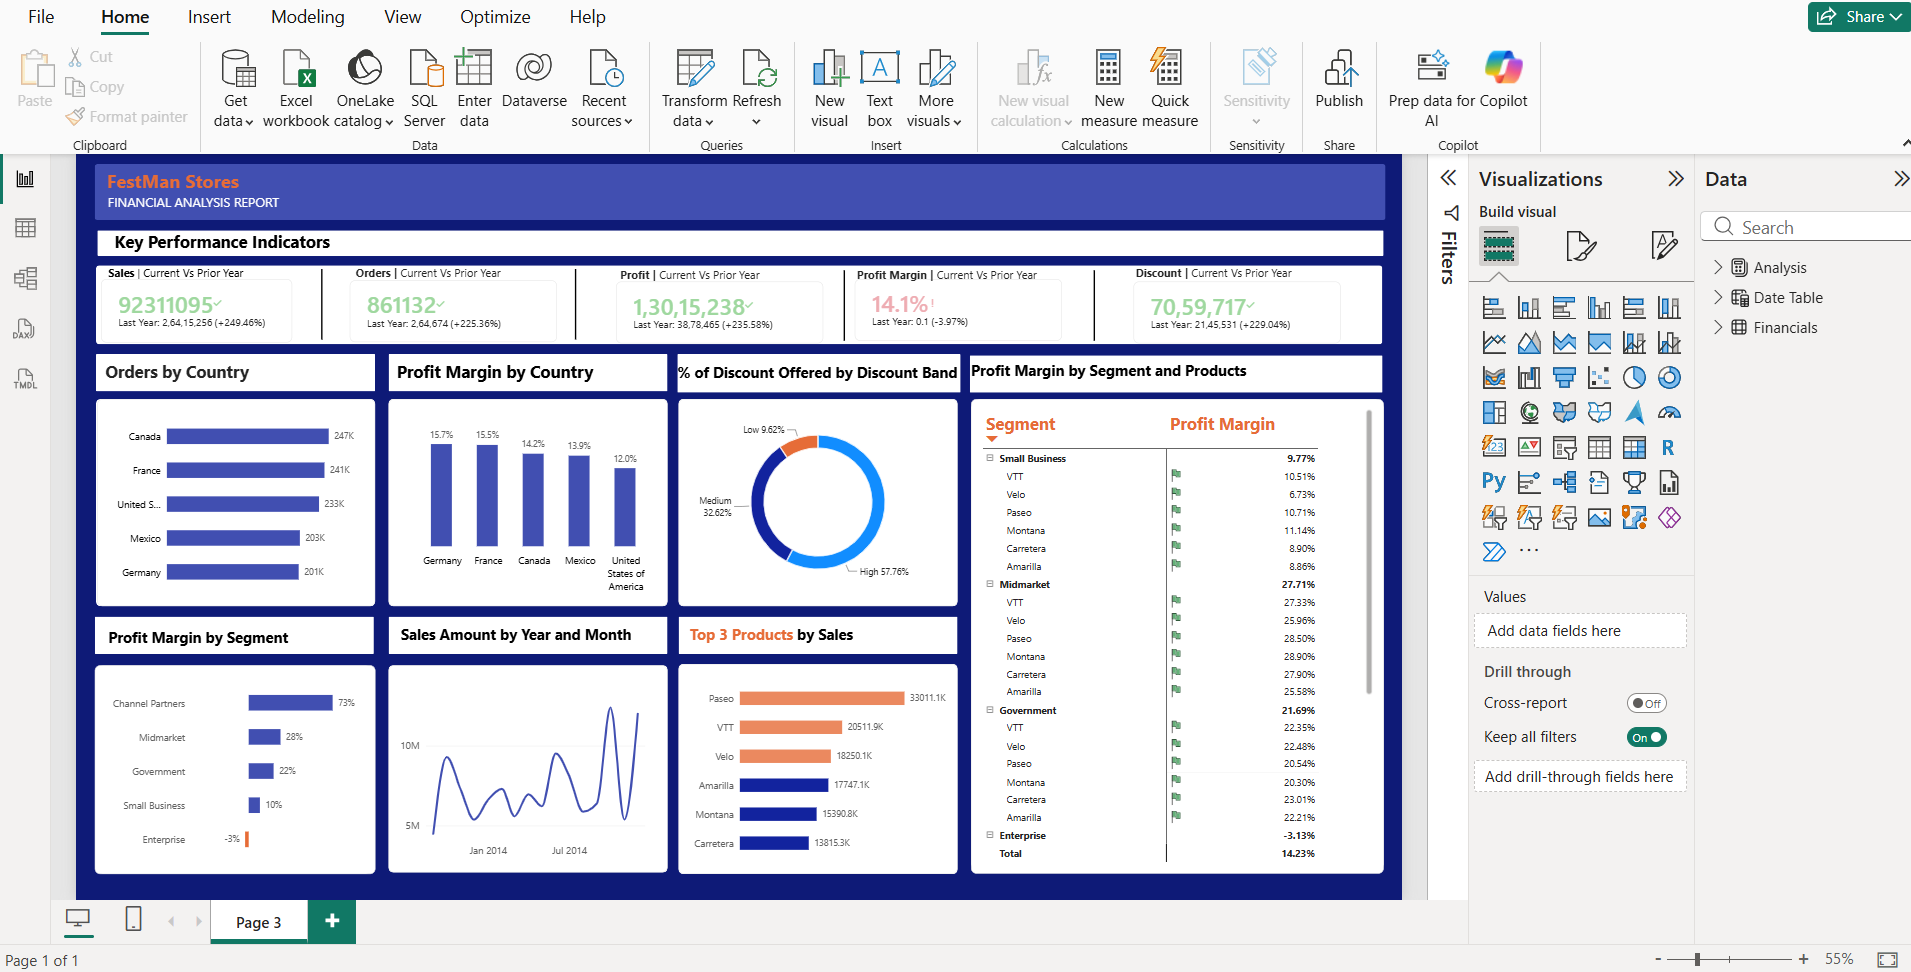

The dashboard page shown, as its layout file describes it:
{"tool":"powerbi","page":{"name":"Page 3","canvas":[1920,1080],"ordinal":0},"visuals":[{"type":"shape","box":[27.1,14.6,1868.8,81.2],"z":0},{"type":"shape","box":[31.2,110.4,1862.5,37.5],"z":1000},{"type":"shape","box":[29.2,160.4,1862.5,114.6],"z":2000},{"type":"shape","box":[29.2,354.2,404.2,300],"z":3000},{"type":"shape","box":[27.1,739.6,404.2,302.1],"z":4000},{"type":"shape","box":[452.1,354.2,404.2,300],"z":5000},{"type":"shape","box":[452.1,739.6,404.2,300],"z":6000},{"type":"shape","box":[872.9,354.2,404.2,300],"z":7000},{"type":"shape","box":[872.9,737.5,404.2,304.2],"z":8000},{"type":"shape","box":[29.2,289.6,404.2,54.2],"z":9000},{"type":"shape","box":[452.1,289.6,404.2,54.2],"z":10000},{"type":"shape","box":[870.8,289.6,410.4,56.2],"z":11000},{"type":"shape","box":[1293.8,291.7,597.9,54.2],"z":12000},{"type":"shape","box":[27.1,668.8,404.2,54.2],"z":13000},{"type":"shape","box":[452.1,668.8,404.2,54.2],"z":14000},{"type":"shape","box":[872.9,668.8,404.2,54.2],"z":15000},{"type":"textbox","box":[27.1,14.6,285.4,50],"z":16000},{"type":"textbox","box":[31.2,56.2,300,52.1],"z":17000},{"type":"textbox","box":[35.4,110.4,716.7,37.5],"z":18000},{"type":"kpi","fields":{"Indicator":["Analysis.Sales Amount"],"TrendLine":["Date Table.Year"],"Goal":["Analysis.Sales Amount LY"]},"box":[35.4,181.2,277.1,91.7],"z":19000},{"type":"textbox","box":[31.2,160.4,231.2,35.4],"z":20000},{"type":"shape","box":[297.9,166.7,114.6,102.1],"z":21000},{"type":"kpi","fields":{"TrendLine":["Date Table.Year"],"Indicator":["Analysis.Orders"],"Goal":["Analysis.Orders LY"]},"box":[395.8,183.3,300,89.6],"z":22000},{"type":"kpi","fields":{"TrendLine":["Date Table.Year"],"Indicator":["Analysis.Profit"],"Goal":["Analysis.Profit LY"]},"box":[781.2,185.4,300,89.6],"z":23000},{"type":"kpi","fields":{"TrendLine":["Date Table.Year"],"Indicator":["Analysis.Profit Margin"],"Goal":["Analysis.Profit Margin LY"]},"box":[1127.1,181.2,300,89.6],"z":24000},{"type":"kpi","fields":{"TrendLine":["Date Table.Year"],"Indicator":["Analysis.Discount Offered"],"Goal":["Analysis.Discount Offered LY"]},"box":[1531.2,185.4,300,89.6],"z":25000},{"type":"shape","box":[666.7,166.7,114.6,102.1],"z":26000},{"type":"shape","box":[1054.2,168.8,114.6,102.1],"z":27000},{"type":"shape","box":[1416.7,168.8,114.6,102.1],"z":28000},{"type":"textbox","box":[395.8,160.4,245.8,27.1],"z":29000},{"type":"textbox","box":[775,162.5,264.6,22.9],"z":30000},{"type":"textbox","box":[1112.5,162.5,314.6,22.9],"z":31000},{"type":"textbox","box":[1516.7,160.4,268.8,31.2],"z":32000},{"type":"barChart","fields":{"Category":["Financials.Country"],"Y":["Analysis.Orders"]},"box":[31.2,354.2,402.1,300],"z":33000},{"type":"textbox","box":[29.2,297.9,366.7,35.4],"z":34000},{"type":"clusteredColumnChart","fields":{"Y":["Analysis.Profit Margin"],"Category":["Financials.Country"]},"box":[452.1,354.2,404.2,300],"z":35000},{"type":"textbox","box":[452.1,297.9,366.7,39.6],"z":36000},{"type":"donutChart","fields":{"Category":["Financials.Discount Band"],"Y":["Analysis.Discount Offered"]},"box":[872.9,354.2,404.2,300],"z":37000},{"type":"textbox","box":[864.6,300,422.9,35.4],"z":38000},{"type":"barChart","fields":{"Category":["Financials.Segment"],"Y":["Analysis.Profit Margin"]},"box":[27.1,739.6,406.2,302.1],"z":39000},{"type":"lineChart","fields":{"Category":["Date Table.Date.Variation.Date Hierarchy.Year","Date Table.Date.Variation.Date Hierarchy.Month"],"Y":["Analysis.Sales Amount"]},"box":[452.1,739.6,404.2,300],"z":40000},{"type":"barChart","fields":{"Y":["Analysis.Sales Amount"],"Category":["Financials.Product"]},"box":[872.9,737.5,404.2,304.2],"z":41000},{"type":"textbox","box":[864.6,681.2,406.2,41.7],"z":42000},{"type":"textbox","box":[452.1,681.2,472.9,41.7],"z":43000},{"type":"textbox","box":[29.2,683.3,383.3,39.6],"z":44000},{"type":"shape","box":[1295.8,354.2,597.9,685.4],"z":46000},{"type":"pivotTable","fields":{"Rows":["Financials.Segment","Financials.Product"],"Values":["Analysis.Profit Margin"]},"box":[1295.8,354.2,597.9,687.5],"z":46001},{"type":"textbox","box":[1295.8,297.9,489.6,45.8],"z":46002}]}

Visuals, with their boxes on the page's 1920x1080 design canvas (x1, y1, x2, y2). These are canvas units, not pixel positions in the 1911x972 screenshot, which may show the page scaled, cropped or inside an application window:
shape: <region>27, 15, 1896, 96</region>
shape: <region>31, 110, 1894, 148</region>
shape: <region>29, 160, 1892, 275</region>
shape: <region>29, 354, 433, 654</region>
shape: <region>27, 740, 431, 1042</region>
shape: <region>452, 354, 856, 654</region>
shape: <region>452, 740, 856, 1040</region>
shape: <region>873, 354, 1277, 654</region>
shape: <region>873, 738, 1277, 1042</region>
shape: <region>29, 290, 433, 344</region>
shape: <region>452, 290, 856, 344</region>
shape: <region>871, 290, 1281, 346</region>
shape: <region>1294, 292, 1892, 346</region>
shape: <region>27, 669, 431, 723</region>
shape: <region>452, 669, 856, 723</region>
shape: <region>873, 669, 1277, 723</region>
textbox: <region>27, 15, 312, 65</region>
textbox: <region>31, 56, 331, 108</region>
textbox: <region>35, 110, 752, 148</region>
kpi - Analysis.Sales Amount x Date Table.Year: <region>35, 181, 312, 273</region>
textbox: <region>31, 160, 262, 196</region>
shape: <region>298, 167, 412, 269</region>
kpi - Date Table.Year x Analysis.Orders: <region>396, 183, 696, 273</region>
kpi - Date Table.Year x Analysis.Profit: <region>781, 185, 1081, 275</region>
kpi - Date Table.Year x Analysis.Profit Margin: <region>1127, 181, 1427, 271</region>
kpi - Date Table.Year x Analysis.Discount Offered: <region>1531, 185, 1831, 275</region>
shape: <region>667, 167, 781, 269</region>
shape: <region>1054, 169, 1169, 271</region>
shape: <region>1417, 169, 1531, 271</region>
textbox: <region>396, 160, 642, 188</region>
textbox: <region>775, 162, 1040, 185</region>
textbox: <region>1112, 162, 1427, 185</region>
textbox: <region>1517, 160, 1786, 192</region>
barChart - Financials.Country x Analysis.Orders: <region>31, 354, 433, 654</region>
textbox: <region>29, 298, 396, 333</region>
clusteredColumnChart - Analysis.Profit Margin x Financials.Country: <region>452, 354, 856, 654</region>
textbox: <region>452, 298, 819, 338</region>
donutChart - Financials.Discount Band x Analysis.Discount Offered: <region>873, 354, 1277, 654</region>
textbox: <region>865, 300, 1288, 335</region>
barChart - Financials.Segment x Analysis.Profit Margin: <region>27, 740, 433, 1042</region>
lineChart - Date Table.Date.Variation.Date Hierarchy.Year x Date Table.Date.Variation.Date Hierarchy.Month: <region>452, 740, 856, 1040</region>
barChart - Analysis.Sales Amount x Financials.Product: <region>873, 738, 1277, 1042</region>
textbox: <region>865, 681, 1271, 723</region>
textbox: <region>452, 681, 925, 723</region>
textbox: <region>29, 683, 412, 723</region>
shape: <region>1296, 354, 1894, 1040</region>
pivotTable - Financials.Segment x Financials.Product: <region>1296, 354, 1894, 1042</region>
textbox: <region>1296, 298, 1785, 344</region>
